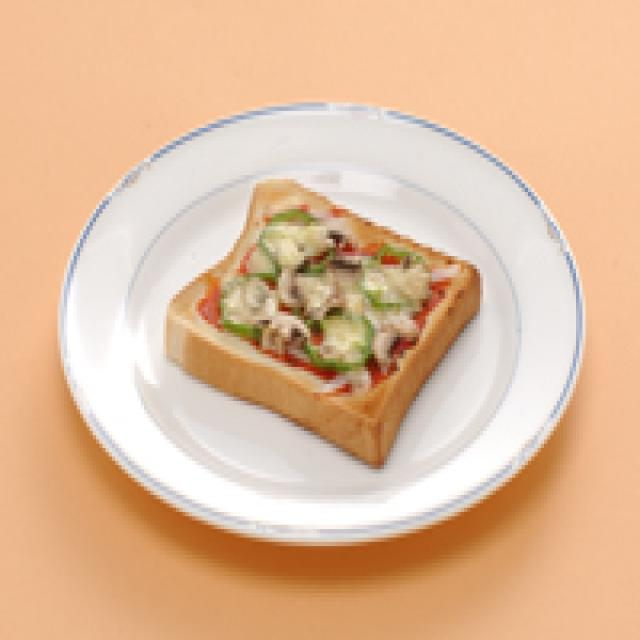面包点心: (147, 171, 496, 469)
